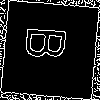B: (24, 25, 76, 62)
